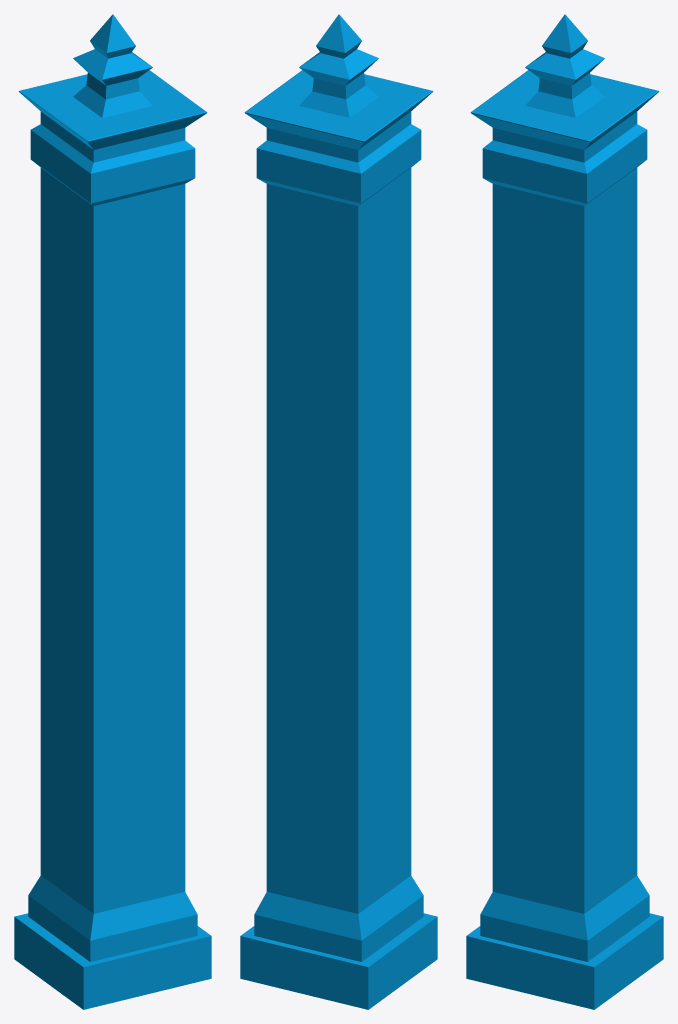
The model's file is graveyard_fencepost_tall.fbx.
3 renders of one model, left to right at view 1: azimuth 30°, elevation 25°; view 2: azimuth 150°, elevation 25°; view 3: azimuth 330°, elevation 25°, orthographic.
Parts seen in each view (by area): view 1: fence_post_tall; view 2: fence_post_tall; view 3: fence_post_tall.
Part boxes in pixels (left/top/right/bottom): fence_post_tall: left=14, top=14, right=211, bottom=1009; fence_post_tall: left=240, top=14, right=437, bottom=1009; fence_post_tall: left=466, top=14, right=663, bottom=1009.
Bounding box in the file's own units: 23.52 × 168 × 22.
